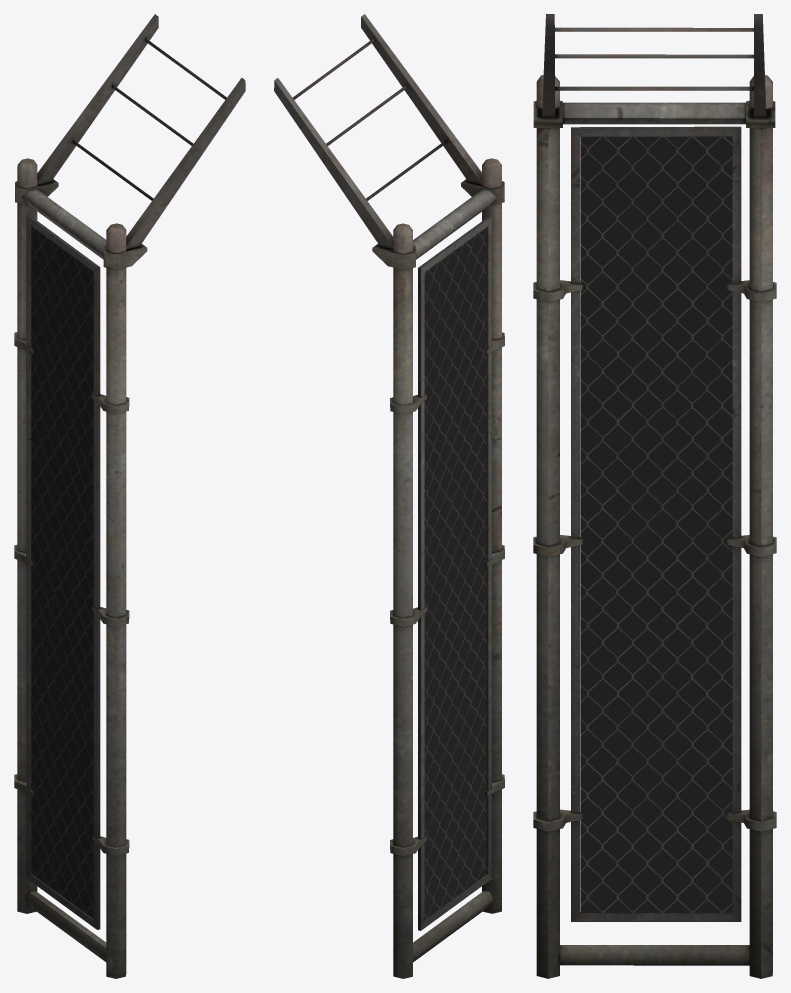
The model's file is exterior_fence002a.glb.
The picture shows the model from 3 angles, left to right: view 1: azimuth 30°, elevation 25°; view 2: azimuth 150°, elevation 25°; view 3: azimuth 270°, elevation 25°; orthographic projection. The views are drawn at different scales.
Parts seen in each view (by area): view 1: exterior_fence002a; view 2: exterior_fence002a; view 3: exterior_fence002a.
Part boxes in pixels (x1,y1,x2,y2): exterior_fence002a: [14, 14, 245, 978]; exterior_fence002a: [274, 14, 504, 978]; exterior_fence002a: [533, 14, 776, 978].
Size of the model in its own units: 0.4964 by 2.9 by 0.6183.
Materials: 2 (2 with a texture image).
